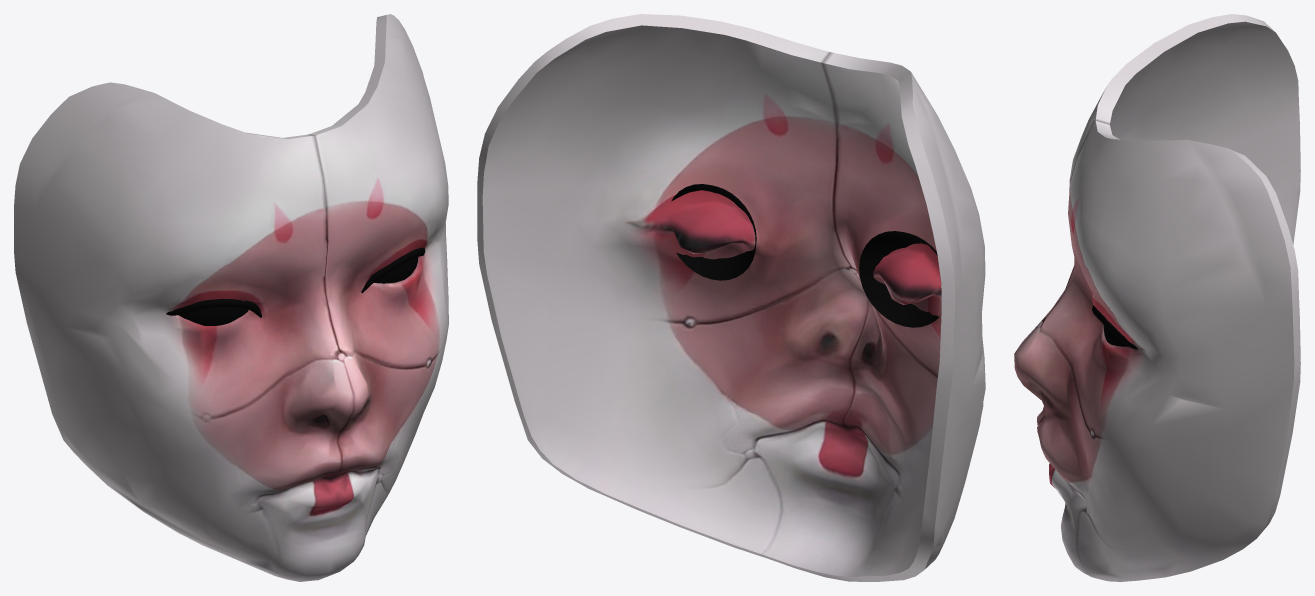
Rendered from MASK2.glb.
3 renders of one model, left to right at view 1: azimuth 30°, elevation 25°; view 2: azimuth 150°, elevation 25°; view 3: azimuth 270°, elevation 25°, orthographic. The views are drawn at different scales.
Parts seen in each view (by area): view 1: Object_12, Object_9, GeishaMask_Decimation1_5; view 2: Object_12, Object_9; view 3: Object_12.
Part boxes in pixels (<box>): Object_12: <box>14,14,448,581</box>; Object_9: <box>179,256,418,325</box>; GeishaMask_Decimation1_5: <box>166,247,425,317</box>; Object_12: <box>477,14,985,581</box>; Object_9: <box>671,184,938,327</box>; Object_12: <box>1014,14,1300,581</box>.
Bounding box in the file's own units: 0.7264 × 0.8246 × 0.4344.
Materials: 3 (3 with a texture image).
